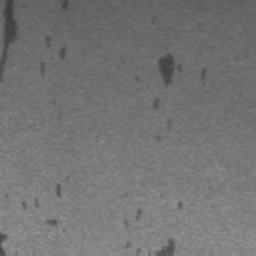Red iron sheet: (133, 52, 207, 131), (123, 209, 175, 256), (22, 184, 61, 227), (0, 0, 19, 83), (40, 35, 68, 76), (0, 232, 9, 256), (60, 0, 69, 12)
